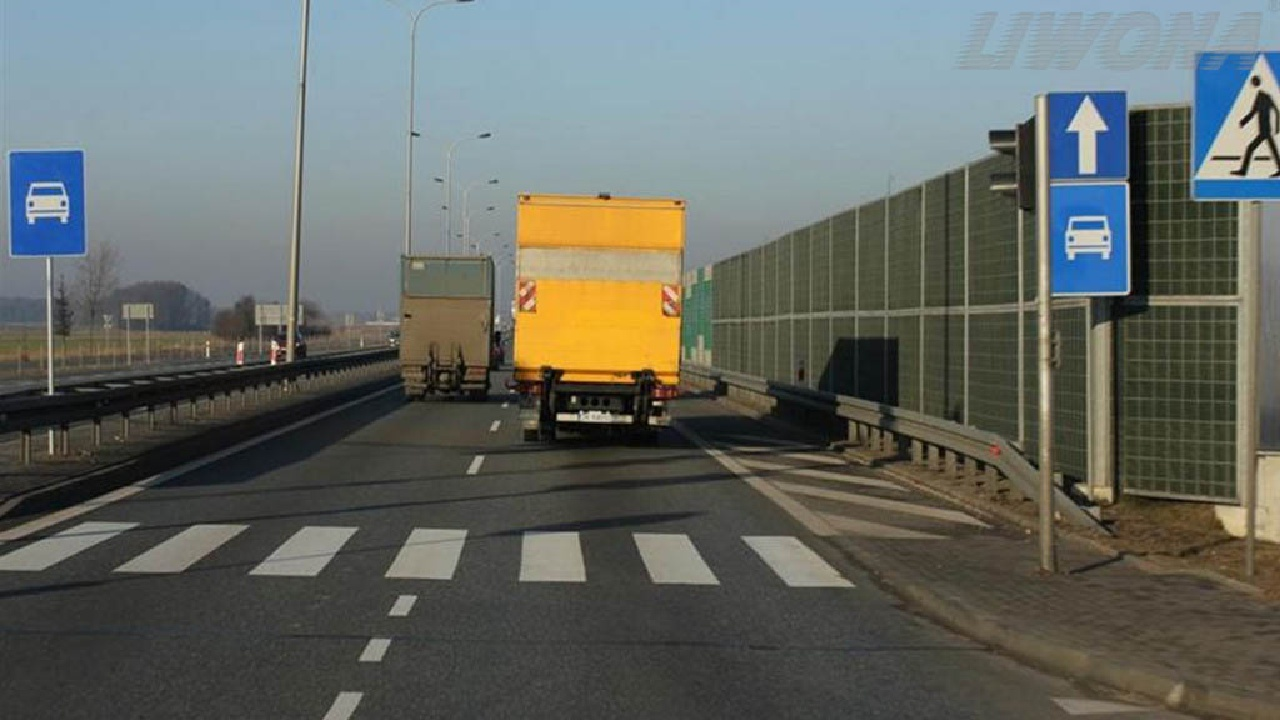D3: (1045, 92, 1130, 181)
D6: (1190, 48, 1280, 204)
D7: (1047, 183, 1132, 296), (9, 150, 89, 257)
